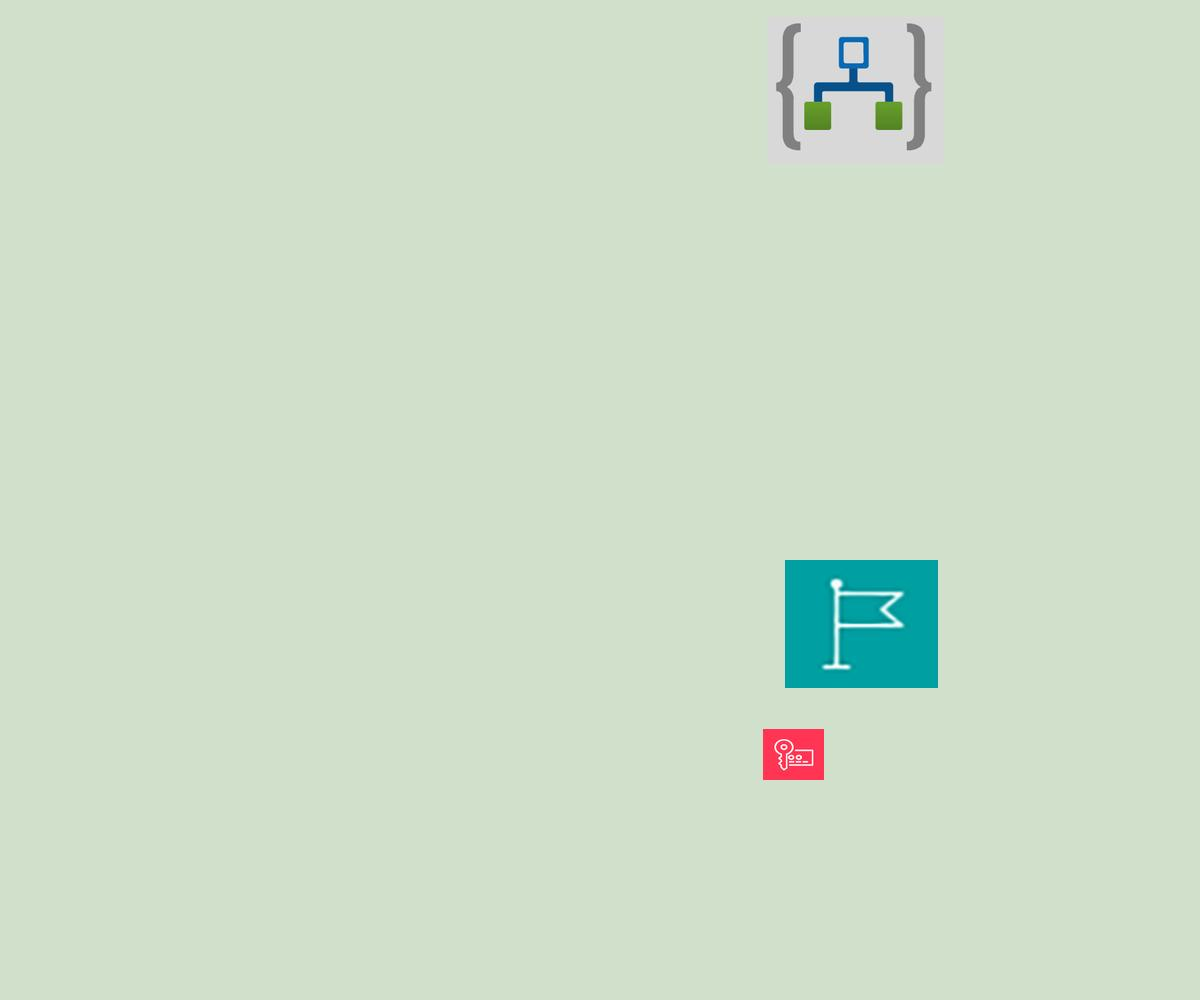AWS-Key-Management-Service: (763, 729, 824, 780)
AWS-Region: (785, 560, 938, 688)
Azure_integration-204-Logic-Apps: (767, 17, 944, 164)
